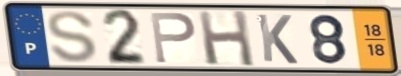2: (100, 7, 149, 68)
8: (308, 13, 351, 67)
H: (195, 9, 258, 69)
K: (254, 12, 300, 66)
P: (147, 10, 198, 66)
S: (44, 9, 100, 65)
